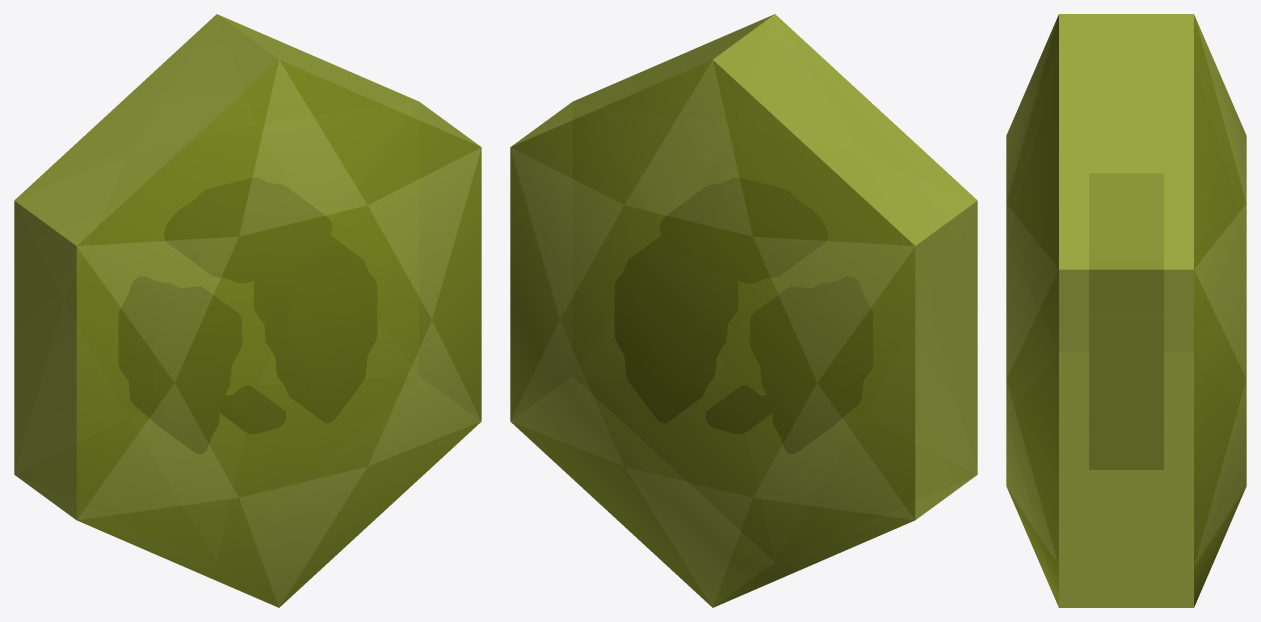
The picture shows the model from 3 angles, left to right: view 1: azimuth 30°, elevation 25°; view 2: azimuth 150°, elevation 25°; view 3: azimuth 270°, elevation 25°; orthographic projection. The views are drawn at different scales.
Visible parts, largest first — view 1: body; view 2: body; view 3: body.
Part boxes in pixels (x1,y1,x2,y2): body: [14, 14, 481, 607]; body: [510, 14, 977, 607]; body: [1006, 14, 1246, 607].
Bounding box in the file's own units: 0.1933 × 0.25 × 0.0916.
2 materials, 2 textured.
